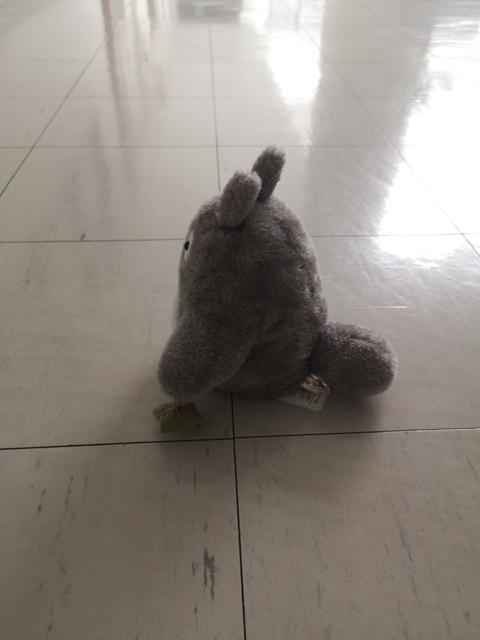totoro: (152, 144, 402, 442)
